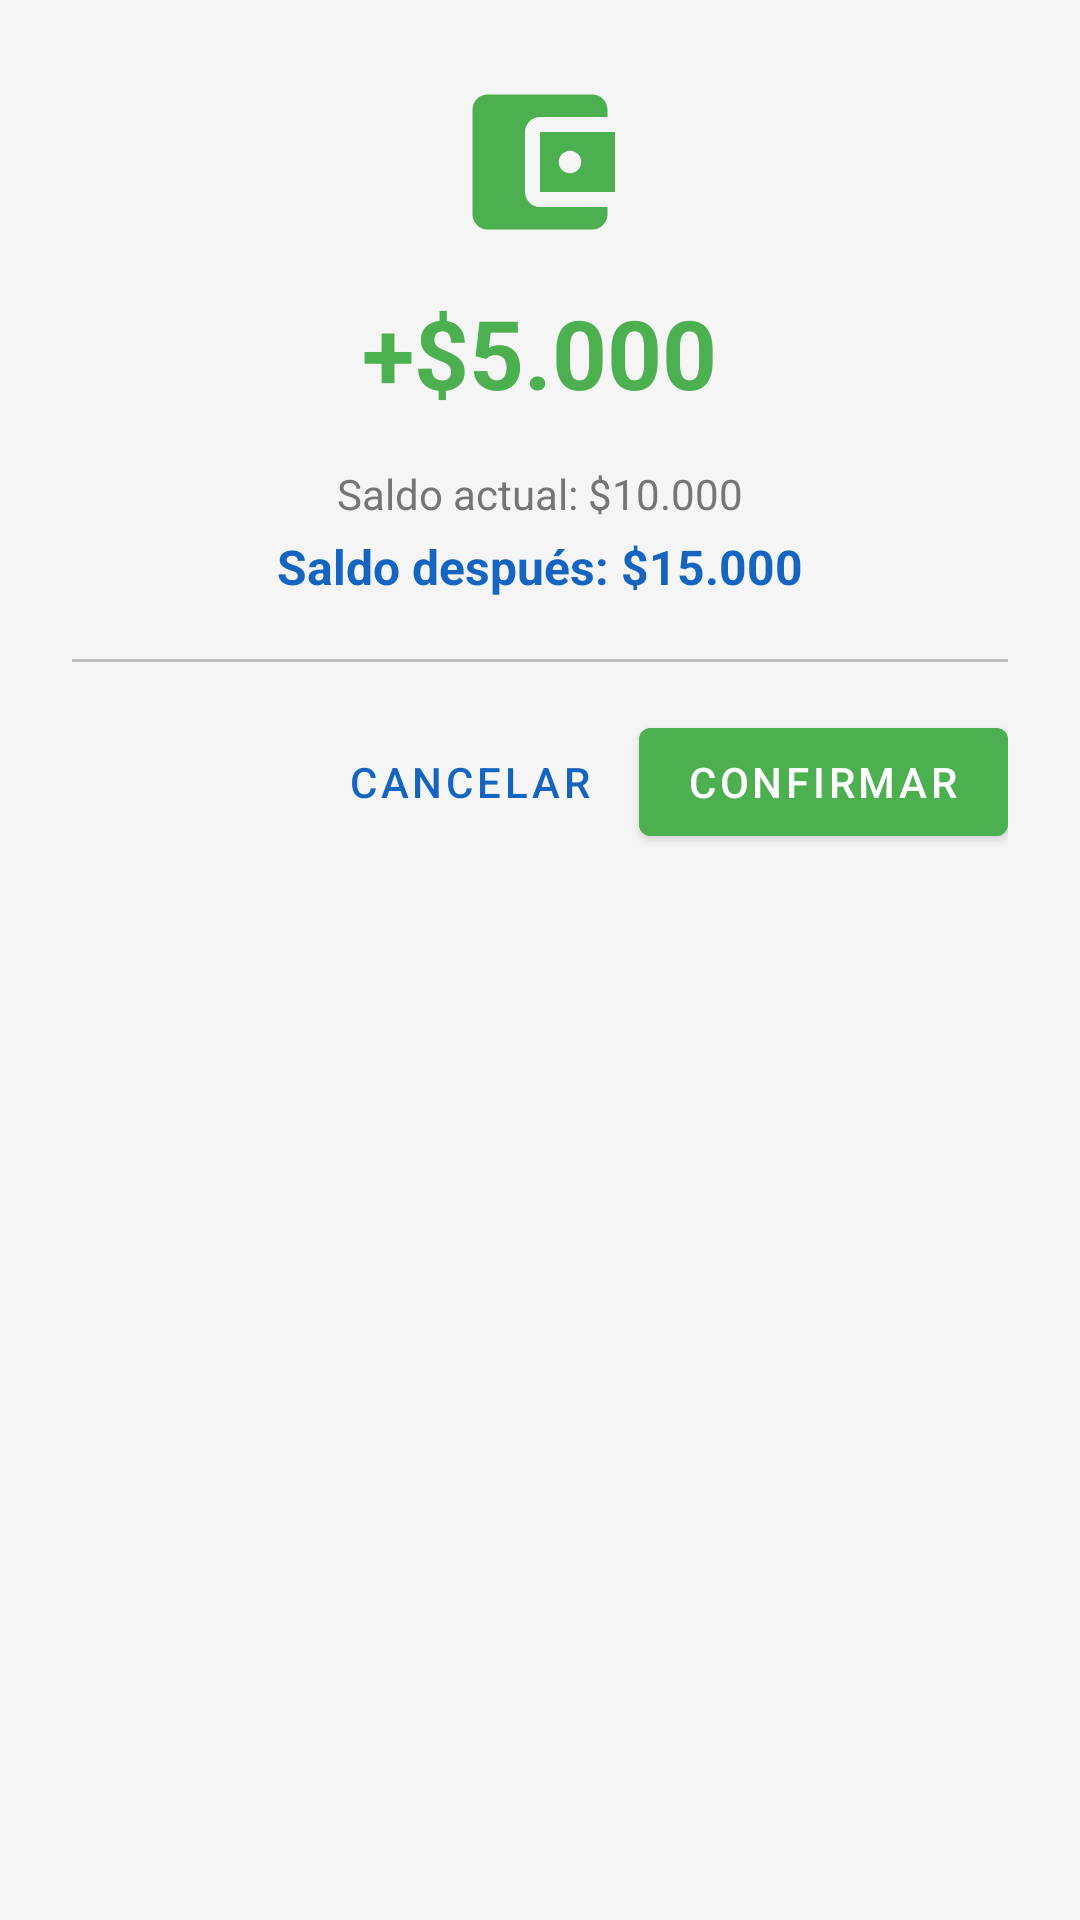

Screen size 1080 × 1920. Icon name, then its center in pixels as (x=x, y=y):
wallet: (x=543, y=162)
